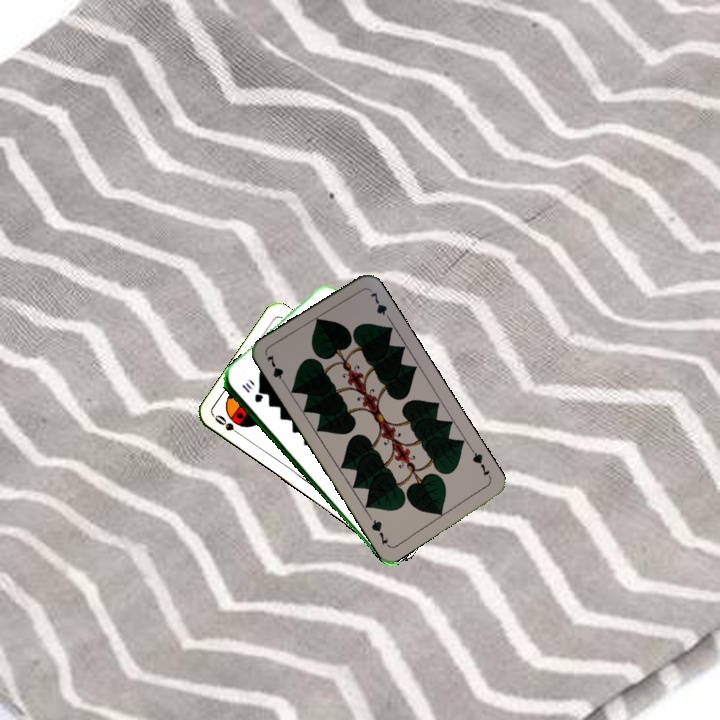G10: (238, 379, 265, 405)
G7: (262, 350, 289, 389), (467, 446, 494, 482)
SO: (210, 411, 246, 440)
